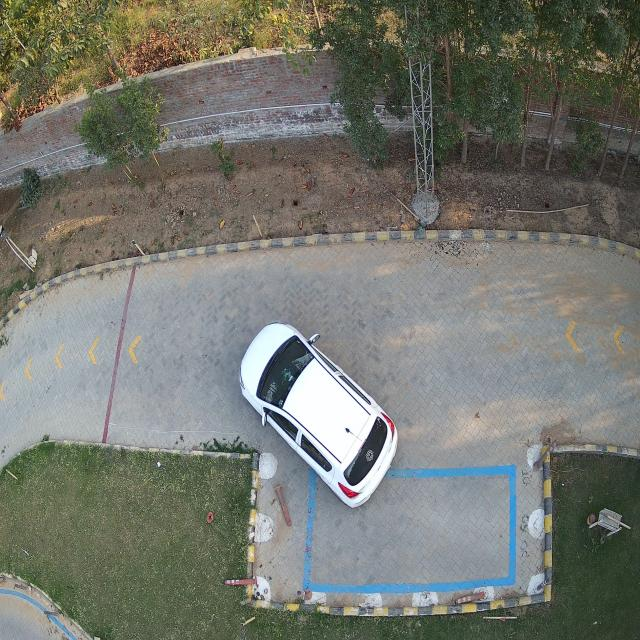car: (344, 417, 388, 487)
